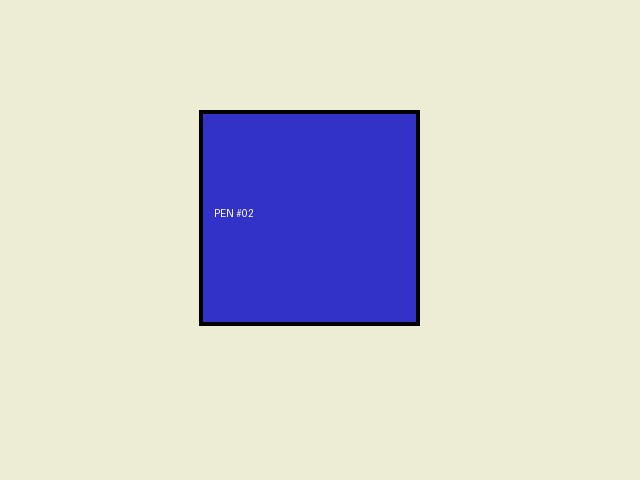pen: (199, 110, 419, 325)
